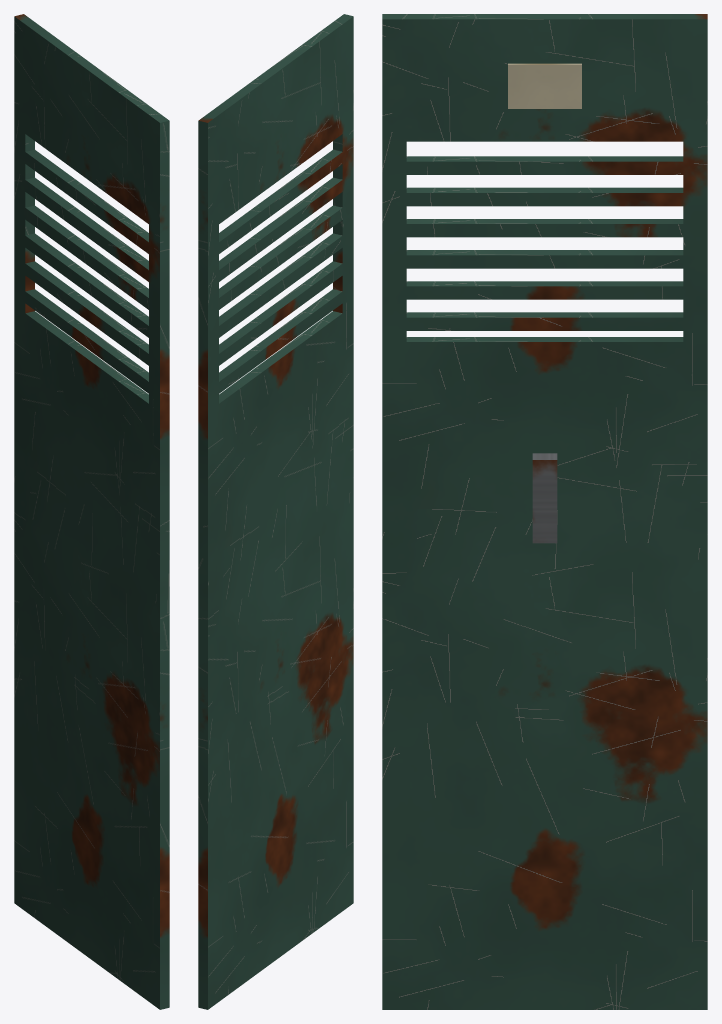
Rendered from SM_LockerDoor.fbx.
3 renders of one model, left to right at view 1: azimuth 30°, elevation 25°; view 2: azimuth 150°, elevation 25°; view 3: azimuth 270°, elevation 25°, orthographic. The views are drawn at different scales.
Parts seen in each view (by area): view 1: SM_LockerDoor; view 2: SM_LockerDoor; view 3: SM_LockerDoor.
Boxes of the visible parts, left/top/right/bottom form: SM_LockerDoor: left=14, top=14, right=169, bottom=1009; SM_LockerDoor: left=198, top=14, right=353, bottom=1009; SM_LockerDoor: left=382, top=14, right=707, bottom=1009.
Bounding box in the file's own units: 0.045 × 1.78 × 0.53.
Materials: 3 (3 with a texture image).
